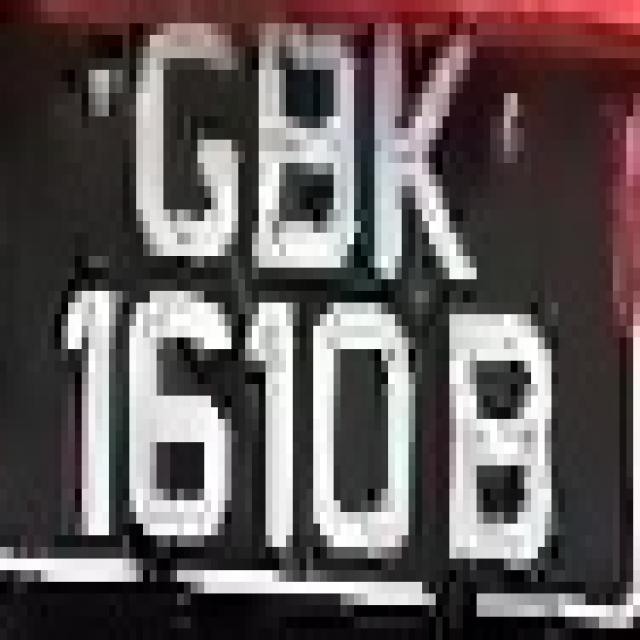0: (300, 268, 408, 582)
1: (54, 244, 116, 547), (245, 279, 300, 582)
6: (129, 256, 245, 582)
B: (436, 268, 551, 628), (238, 12, 368, 314)
G: (102, 0, 252, 303)
K: (361, 11, 476, 268)
